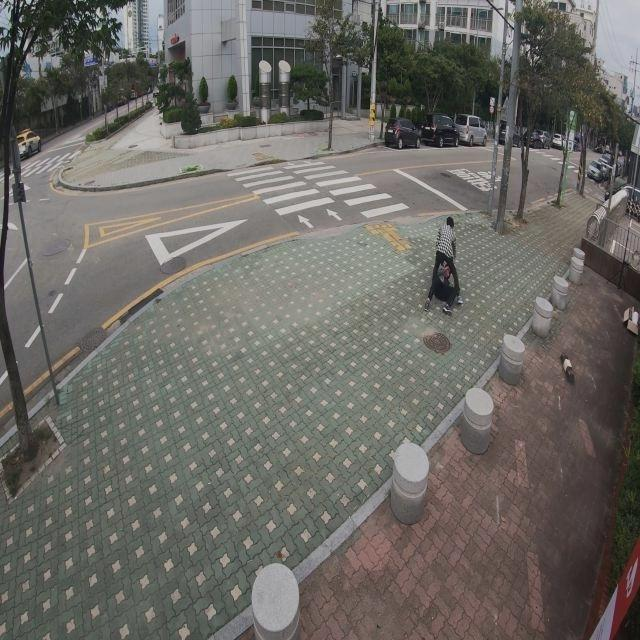fight: (427, 216, 462, 313)
